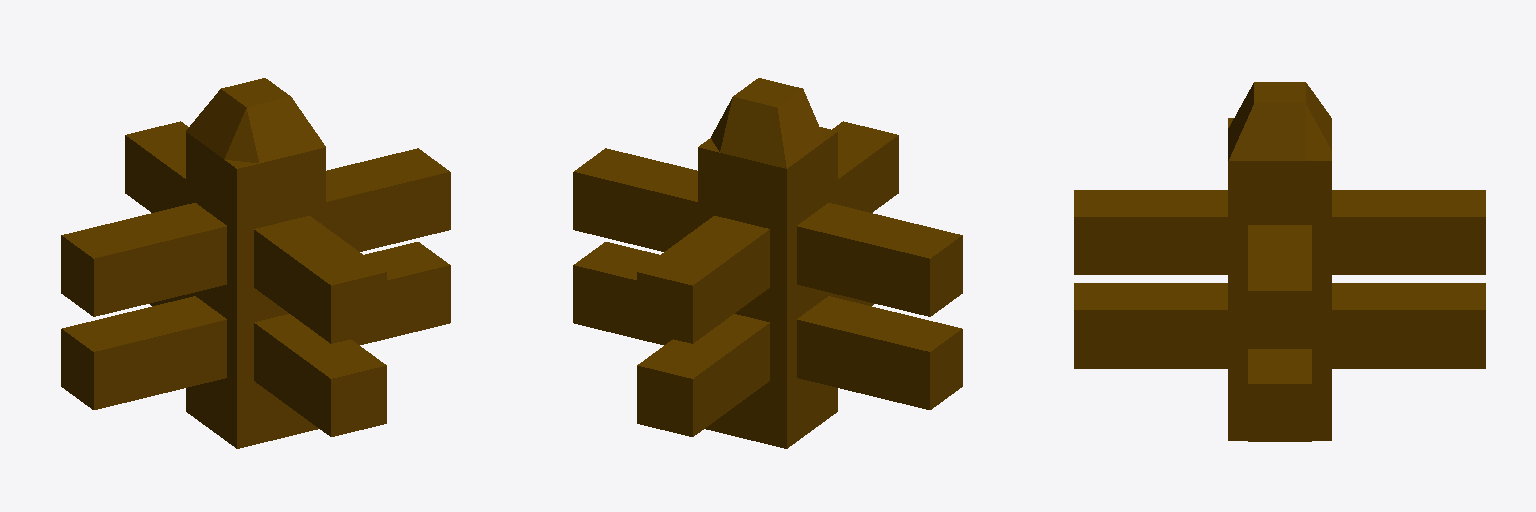
3 renders of one model, left to right at view 1: azimuth 30°, elevation 25°; view 2: azimuth 150°, elevation 25°; view 3: azimuth 270°, elevation 25°, orthographic.
Parts seen in each view (by area): view 1: 0, 1, 3, 2, 4; view 2: 1, 0, 4, 2, 3; view 3: 4, 3, 0, 2.
Part boxes in pixels (x1,y1,x2,y2): 0: (186,78,325,448); 1: (61,203,226,409); 3: (254,216,386,436); 2: (326,148,450,344); 4: (125,121,188,305); 1: (797,203,962,409); 0: (698,78,837,448); 4: (637,216,769,436); 2: (573,148,697,344); 3: (832,121,898,305); 4: (1332,190,1485,368); 3: (1074,190,1227,368); 0: (1228,82,1331,440); 2: (1248,225,1311,441).
Bounding box in the file's own units: 1 × 0.875 × 1.
1 materials, 1 textured.